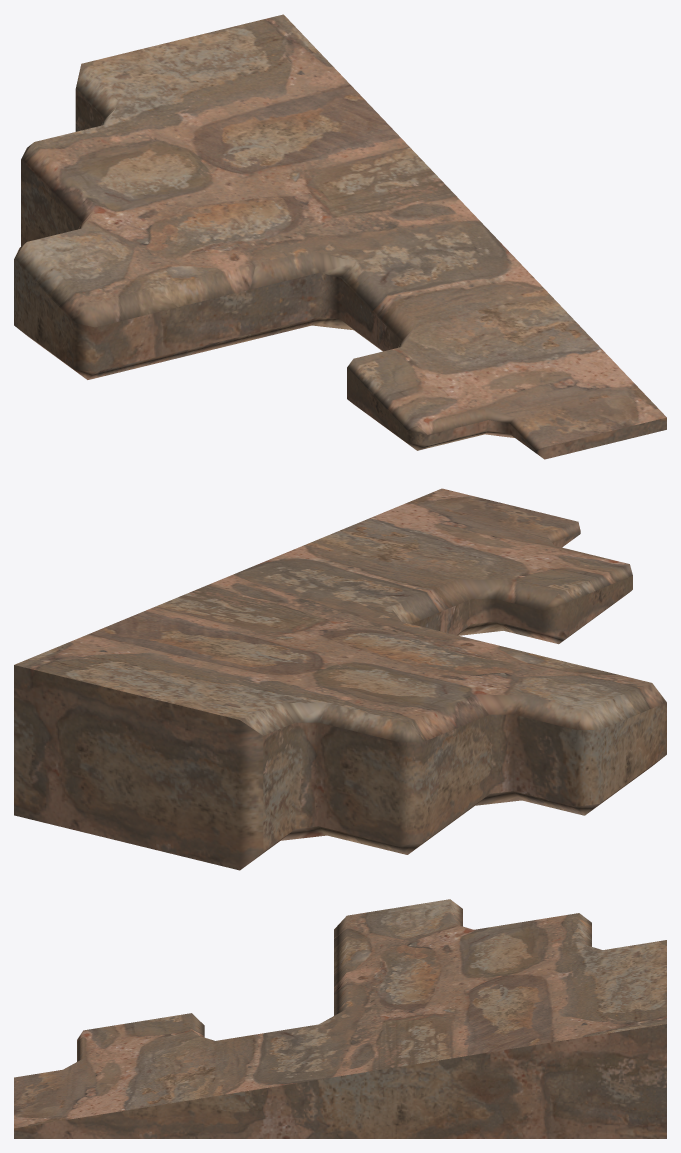
Rendered from WallRoof_BrokenlBottomL.fbx.
3 renders of one model, top to bottom at view 1: azimuth 30°, elevation 25°; view 2: azimuth 150°, elevation 25°; view 3: azimuth 270°, elevation 25°, orthographic. The views are drawn at different scales.
Parts seen in each view (by area): view 1: WallRoof_BrokenBottomL_LOD0; view 2: WallRoof_BrokenBottomL_LOD0; view 3: WallRoof_BrokenBottomL_LOD0.
Boxes of the visible parts, box(x1,y1,x2,y2) form: WallRoof_BrokenBottomL_LOD0: box(14, 14, 666, 459); WallRoof_BrokenBottomL_LOD0: box(14, 488, 666, 870); WallRoof_BrokenBottomL_LOD0: box(14, 899, 666, 1138).
Size of what is drawn, in the model's own units: 59.81 by 19.4 by 100.
